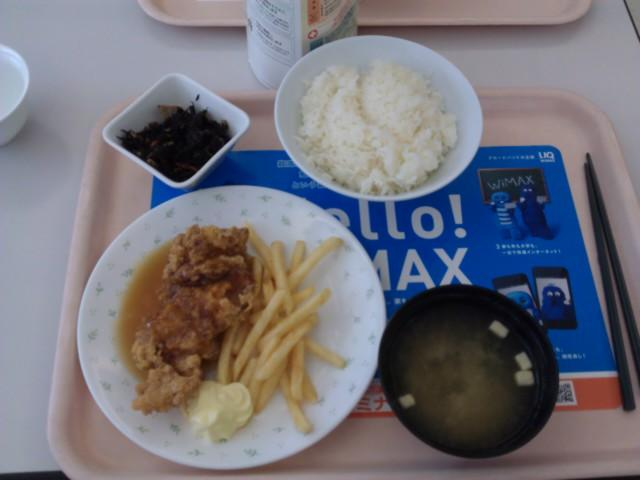rice: (299, 61, 457, 194)
